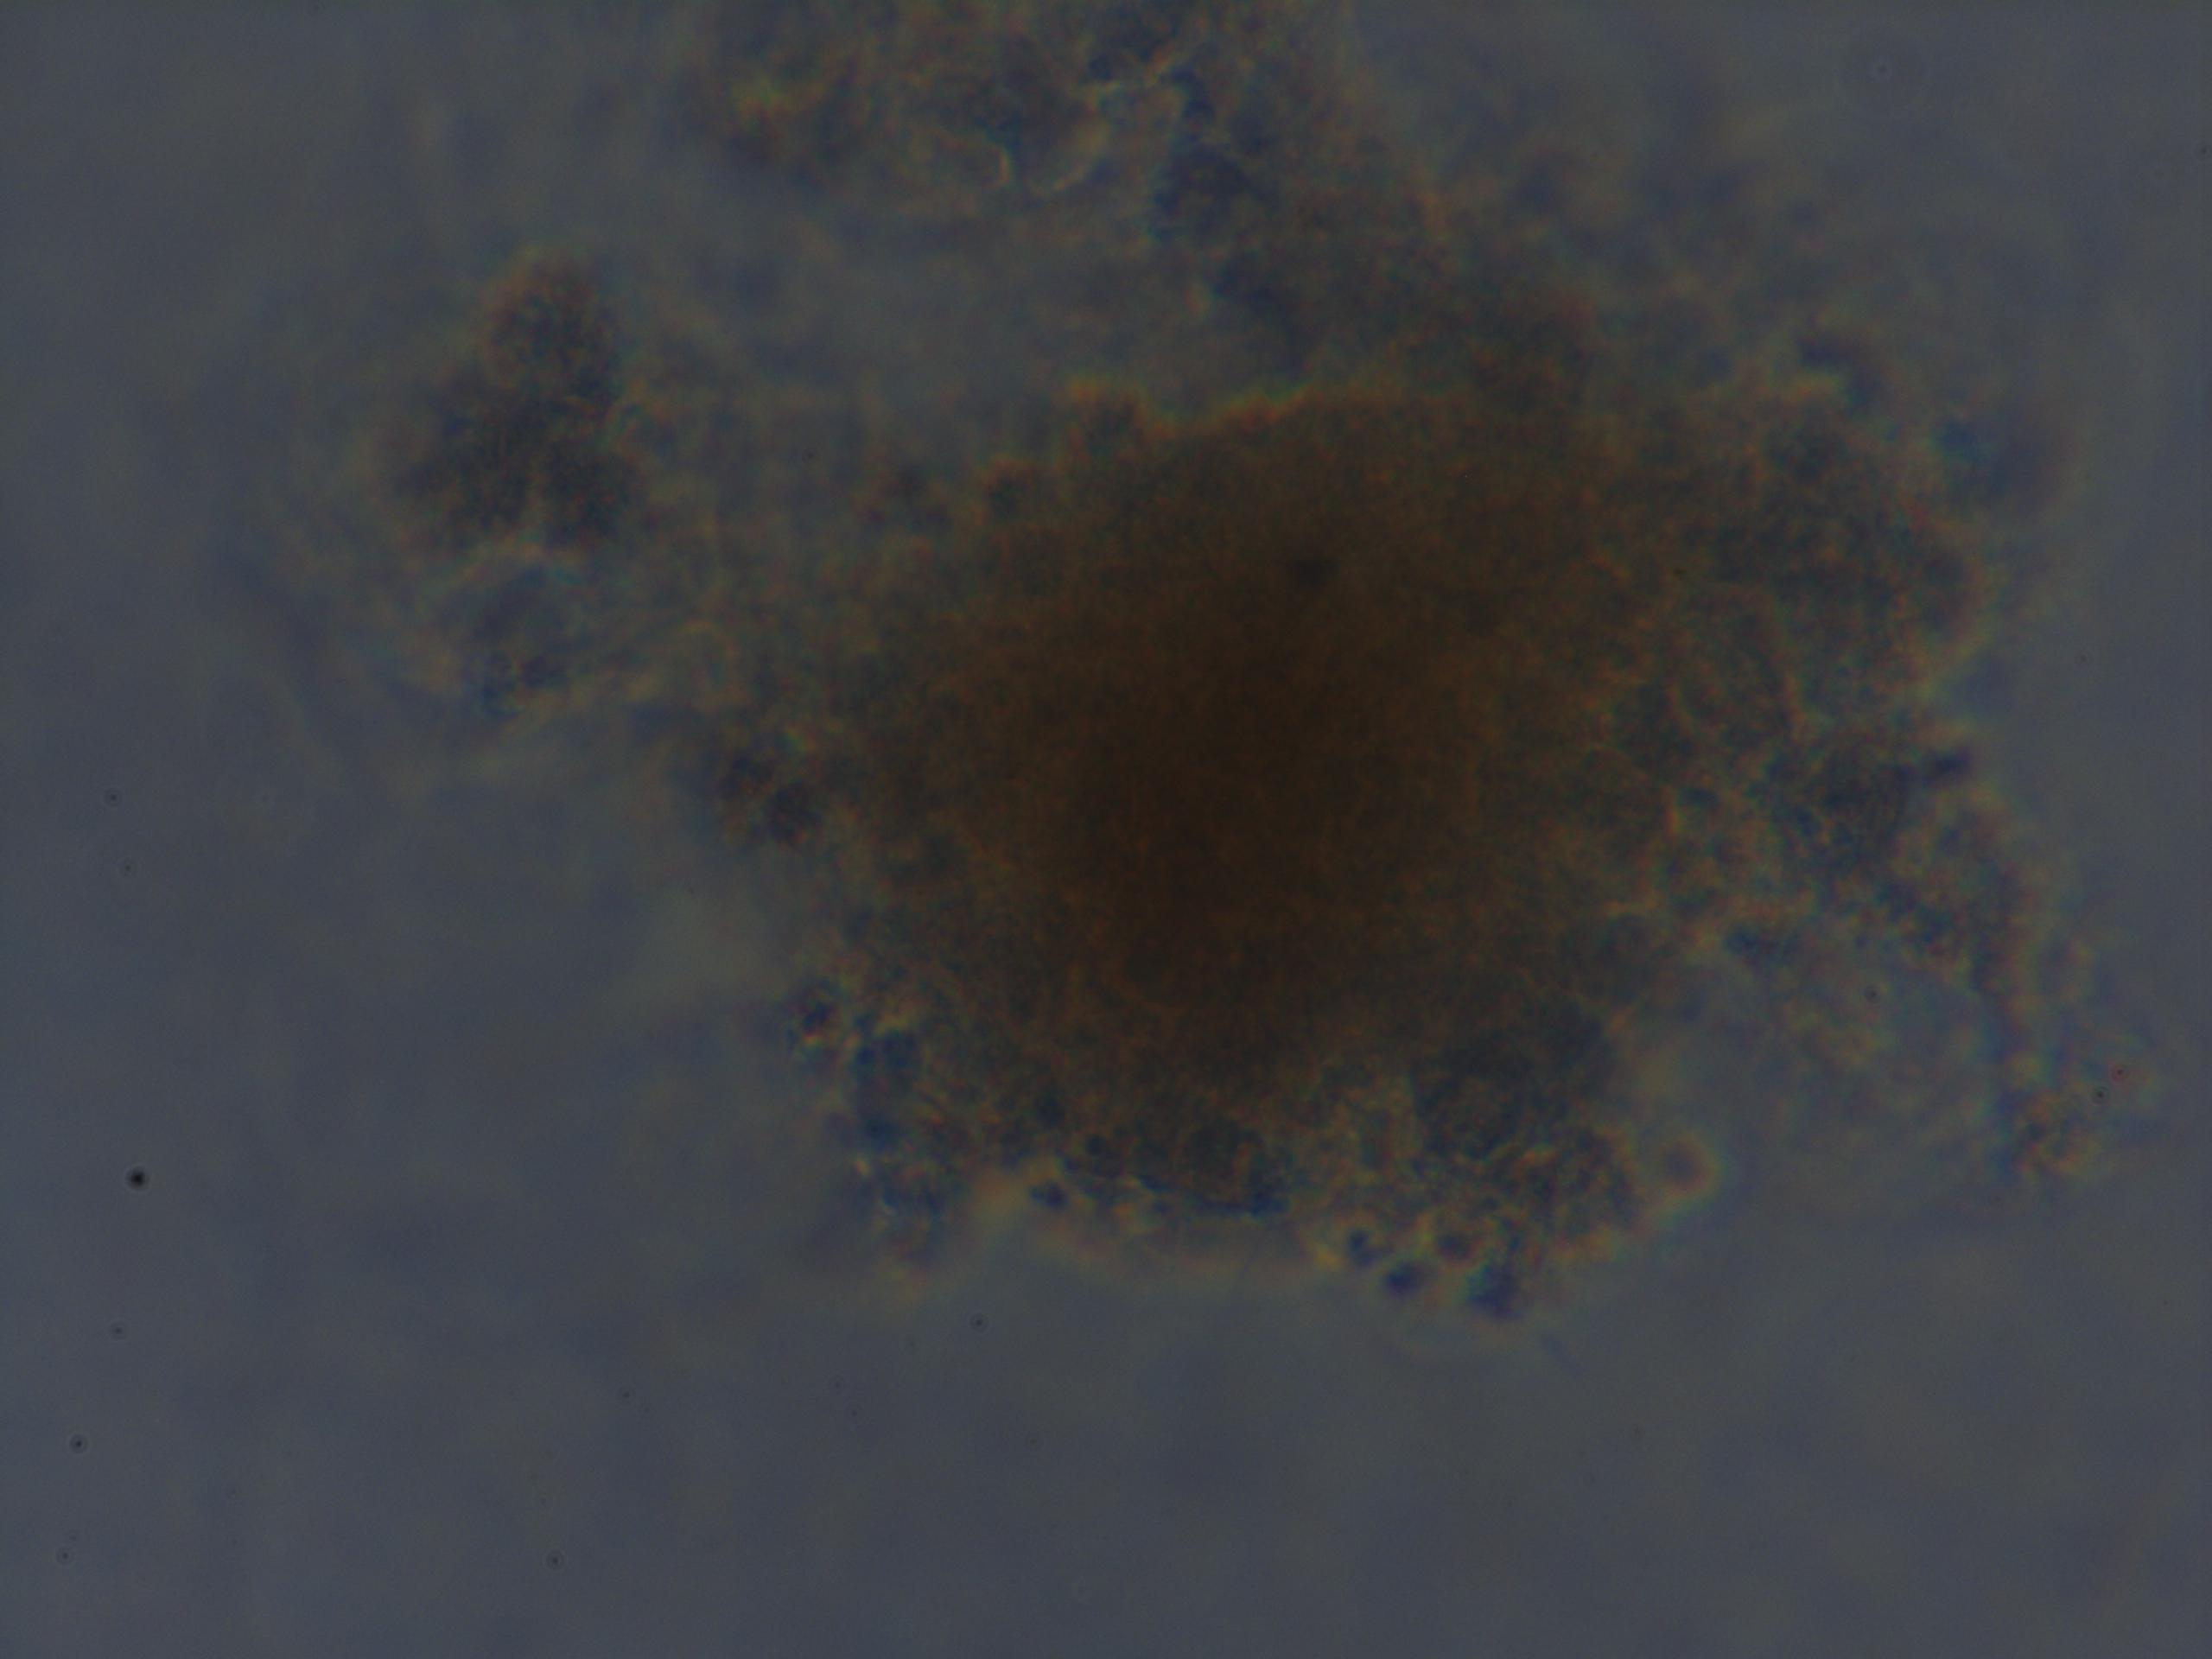spherical_floc: (747, 338, 2020, 1316)
